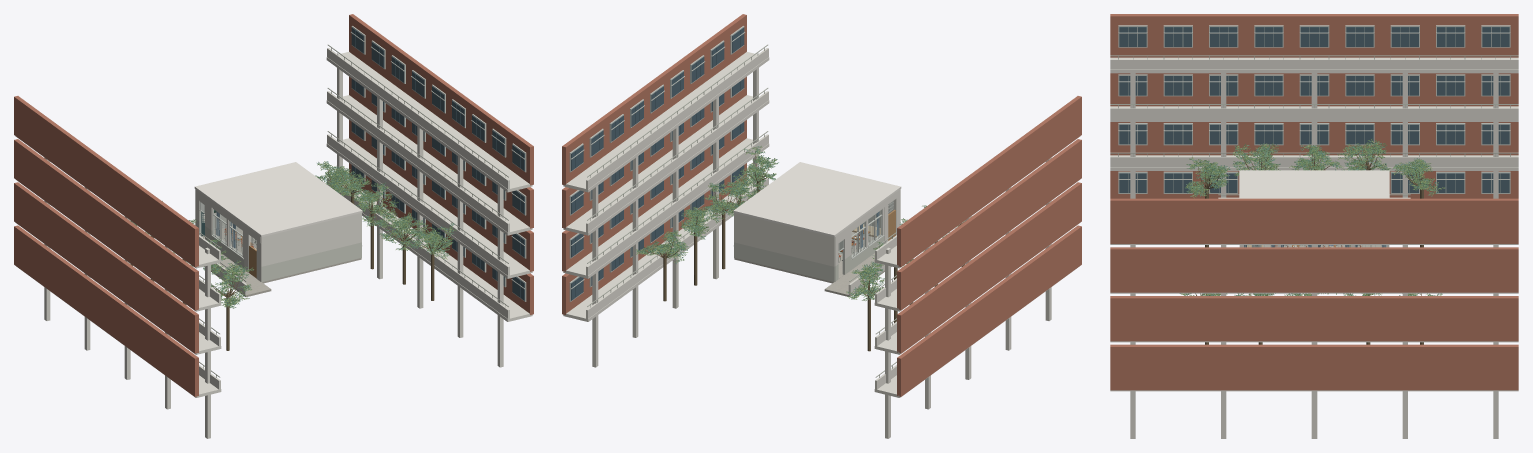
Rendered from studyroom-48.glb.
3 renders of one model, left to right at view 1: azimuth 30°, elevation 25°; view 2: azimuth 150°, elevation 25°; view 3: azimuth 270°, elevation 25°, orthographic. The views are drawn at different scales.
Visible parts, largest first — view 1: 窗外景深 · 对楼陶色窗间墙、廊板及绿荫, 房间 · 双侧窗洞、磨石地面与顶梁, Rear | open classroom doorway, transom and recess; view 2: 窗外景深 · 对楼陶色窗间墙、廊板及绿荫, 房间 · 双侧窗洞、磨石地面与顶梁, Rear | open classroom doorway, transom and recess; view 3: 窗外景深 · 对楼陶色窗间墙、廊板及绿荫, 房间 · 双侧窗洞、磨石地面与顶梁.
Part boxes in pixels (bbox=[...]): 窗外景深 · 对楼陶色窗间墙、廊板及绿荫: bbox=[14, 14, 533, 438]; 房间 · 双侧窗洞、磨石地面与顶梁: bbox=[194, 162, 362, 283]; Rear | open classroom doorway, transom and recess: bbox=[195, 189, 212, 242]; 窗外景深 · 对楼陶色窗间墙、廊板及绿荫: bbox=[562, 14, 1081, 438]; 房间 · 双侧窗洞、磨石地面与顶梁: bbox=[733, 162, 901, 283]; Rear | open classroom doorway, transom and recess: bbox=[834, 225, 851, 281]; 窗外景深 · 对楼陶色窗间墙、廊板及绿荫: bbox=[1110, 14, 1518, 438]; 房间 · 双侧窗洞、磨石地面与顶梁: bbox=[1239, 170, 1389, 247].
Size of the model in its own units: 28.74 by 17.95 by 26.55.
Materials: 53 (5 with a texture image).
